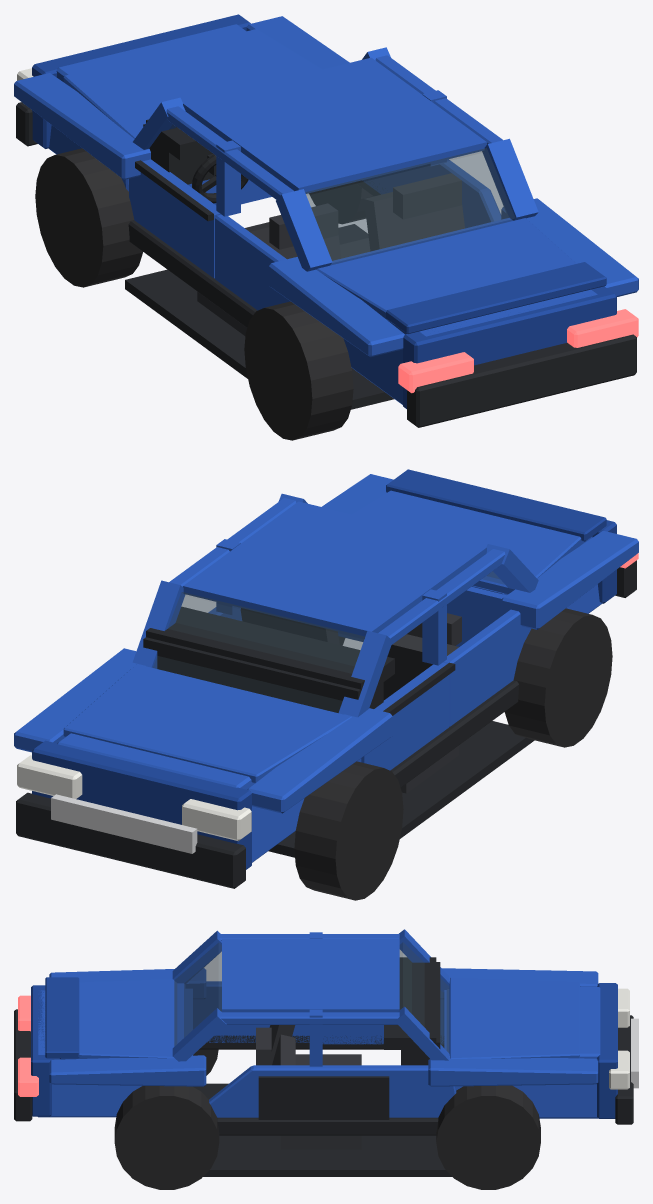
3 renders of one model, top to bottom at view 1: azimuth 30°, elevation 25°; view 2: azimuth 150°, elevation 25°; view 3: azimuth 270°, elevation 25°, orthographic. The views are drawn at different scales.
Visible parts, largest first — view 1: roof, rear_window, deck, hood, wheel_RL, wheel_FL, bumper_r, tail, floor, spoiler, rear_fender_L, front_fender_L (+27 smaller); view 2: roof, hood, wheel_FL, wheel_RL, windshield, nose, dash_top, deck, bumper_f, dash, front_fender_L, rear_fender_L (+24 smaller); view 3: roof, hood, wheel_RR, wheel_FR, floor, deck, body_side_R, door_line_R, front_fender_R, rear_fender_R, front_lower, rocker_R (+32 smaller).
Boxes of the visible parts, left/top/right/bottom form: roof: left=183, top=57, right=486, bottom=193; rear_window: left=305, top=148, right=515, bottom=264; deck: left=316, top=217, right=576, bottom=324; hood: left=63, top=29, right=322, bottom=138; wheel_RL: left=244, top=301, right=353, bottom=440; wheel_FL: left=35, top=148, right=142, bottom=287; bumper_r: left=407, top=334, right=636, bottom=427; tail: left=403, top=286, right=616, bottom=408; floor: left=125, top=224, right=394, bottom=409; spoiler: left=386, top=262, right=606, bottom=333; rear_fender_L: left=269, top=257, right=404, bottom=357; front_fender_L: left=14, top=73, right=150, bottom=179; roof: left=183, top=501, right=486, bottom=637; hood: left=63, top=664, right=351, bottom=783; wheel_FL: left=294, top=761, right=403, bottom=900; wheel_RL: left=504, top=608, right=612, bottom=747; windshield: left=153, top=592, right=364, bottom=712; nose: left=32, top=740, right=251, bottom=869; dash_top: left=146, top=607, right=394, bottom=689; deck: left=352, top=490, right=584, bottom=594; bumper_f: left=16, top=792, right=245, bottom=888; dash: left=143, top=637, right=383, bottom=712; front_fender_L: left=247, top=708, right=392, bottom=813; rear_fender_L: left=501, top=530, right=638, bottom=629; roof: left=222, top=938, right=399, bottom=1012; hood: left=449, top=977, right=579, bottom=1058; wheel_RR: left=114, top=1086, right=219, bottom=1189; wheel_FR: left=436, top=1085, right=540, bottom=1189; floor: left=193, top=1083, right=452, bottom=1176; deck: left=60, top=979, right=185, bottom=1059; body_side_R: left=209, top=1065, right=456, bottom=1117; door_line_R: left=258, top=1076, right=389, bottom=1119; front_fender_R: left=428, top=1055, right=598, bottom=1086; rear_fender_R: left=49, top=1055, right=206, bottom=1086; front_lower: left=455, top=987, right=600, bottom=1118; rocker_R: left=217, top=1117, right=438, bottom=1135.
Bounding box in the file's own units: 204 × 137 × 478.
